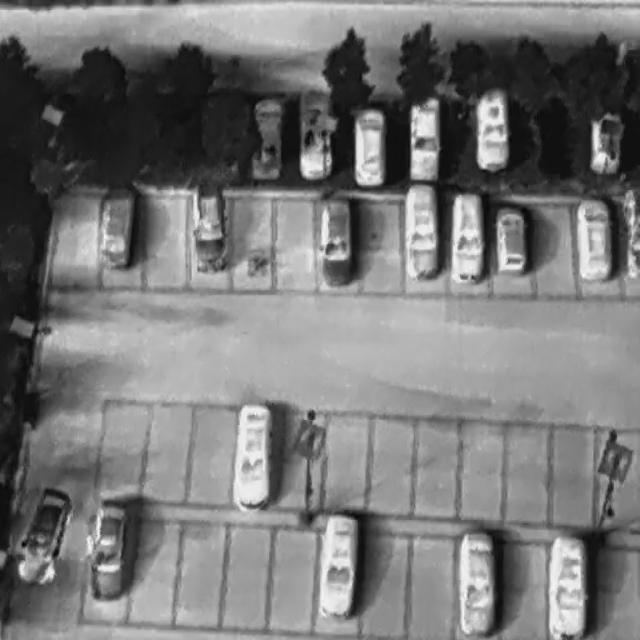Car: (10, 478, 76, 592), (314, 508, 362, 620), (83, 493, 132, 602), (231, 400, 276, 512), (92, 180, 142, 274), (546, 532, 588, 638), (458, 529, 496, 639), (403, 181, 439, 279), (319, 190, 353, 288), (574, 195, 612, 281), (299, 85, 333, 180), (472, 89, 510, 172), (191, 180, 225, 272), (406, 94, 441, 182), (451, 190, 483, 281), (351, 106, 386, 186), (252, 95, 282, 177), (495, 205, 526, 277), (588, 112, 621, 172)
